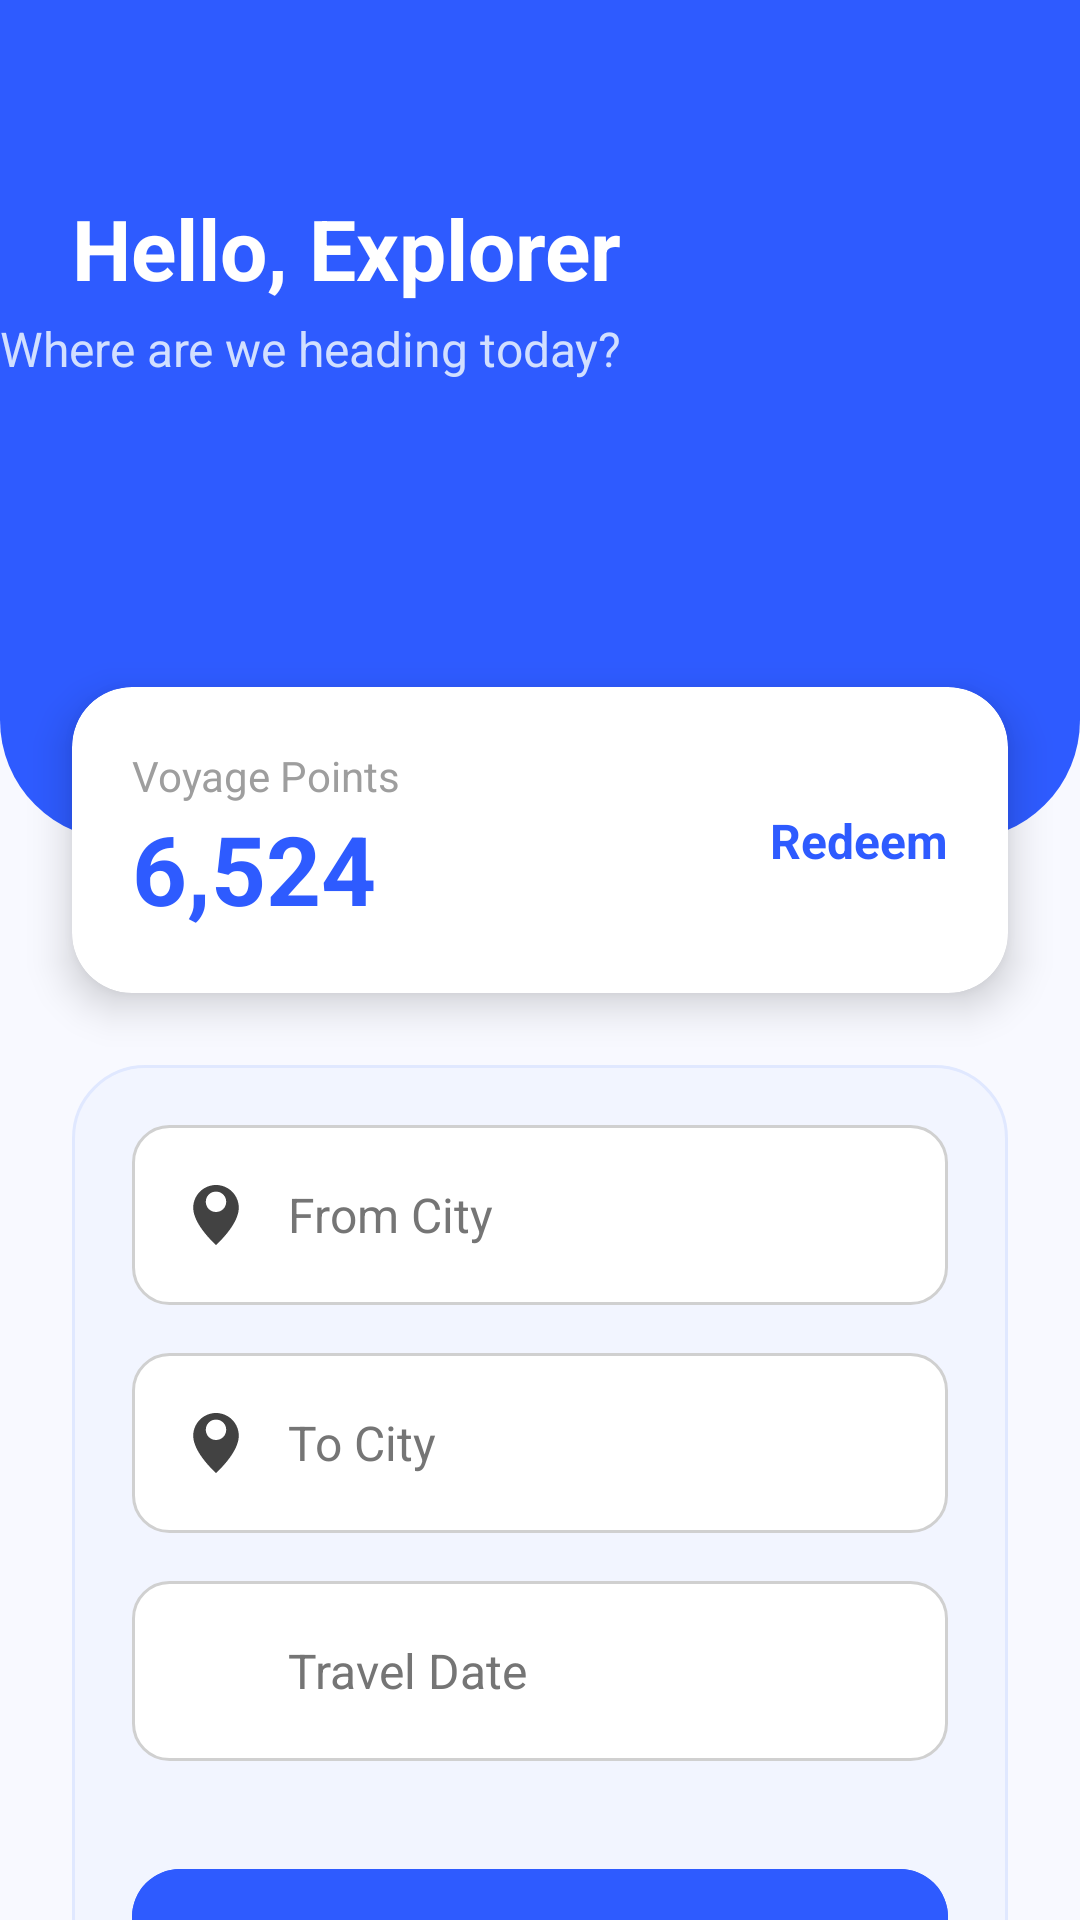

Locate icon controls on the screen. Image size 1080w x 1920h, boxes as (x1, y1, x2, y2).
Location Icon: (193, 1185, 239, 1245), (193, 1413, 239, 1473)
